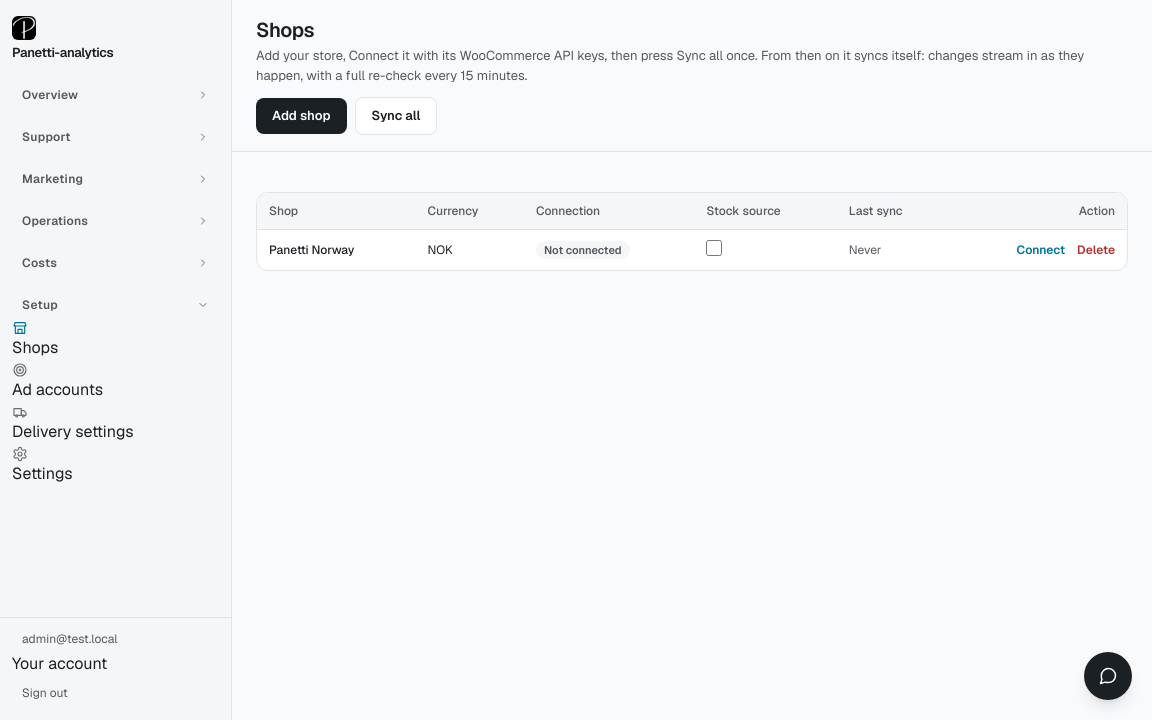
Test: ShopsClient › a first sync with more history left says to press again
What coordinates should you click on to do the following:
click the button "Sync all"
I would click on:
 (396, 116)
Its box is [354,97,437,134].
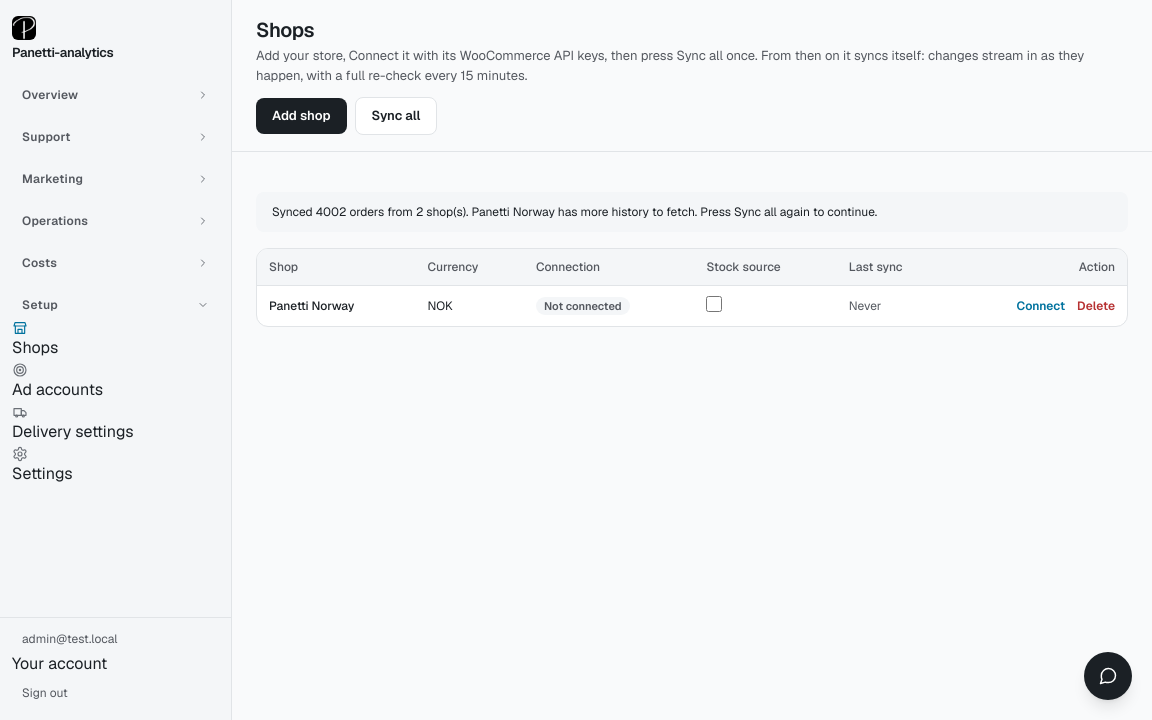
Expected: the text "Synced 4002 orders from 2 shop(s)." is shown, [272,204,877,220]
